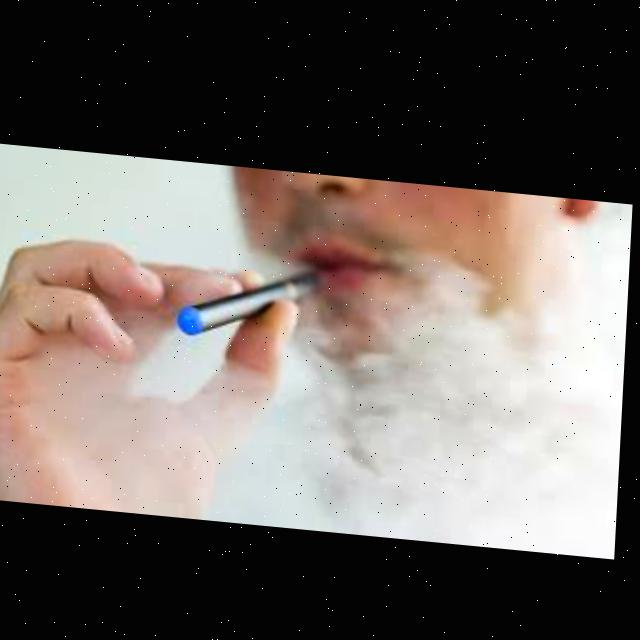vape: (181, 254, 325, 344)
